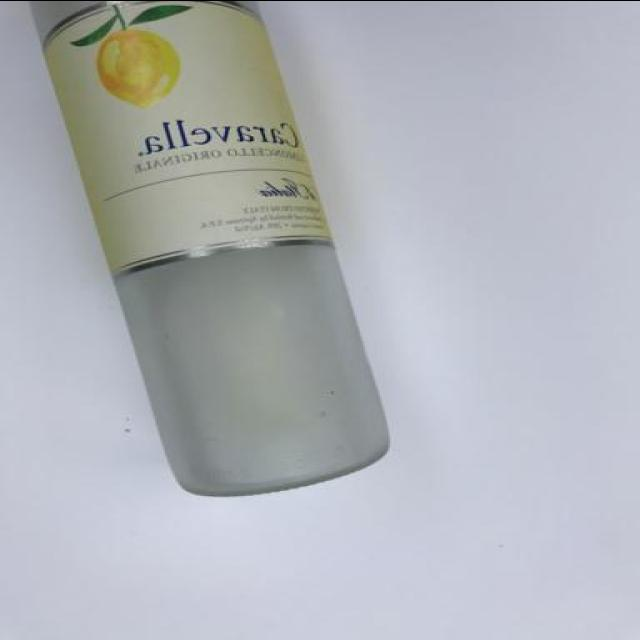glass: (31, 0, 388, 498)
